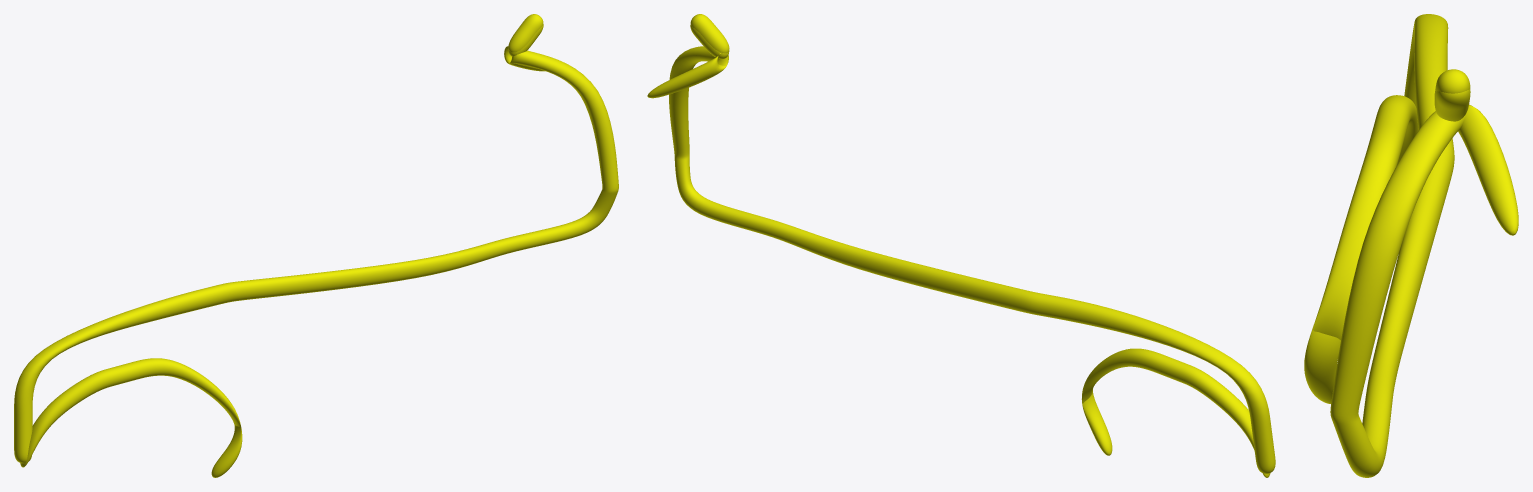
File: conducto deferente izq.fbx
3 views of the same model, side by side, from view 1: azimuth 30°, elevation 25°; view 2: azimuth 150°, elevation 25°; view 3: azimuth 270°, elevation 25° (orthographic). The views are drawn at different scales.
Visible parts, largest first — view 1: Cube_009; view 2: Cube_009; view 3: Cube_009.
Boxes of the visible parts, <box> form: Cube_009: <box>14,14,618,477</box>; Cube_009: <box>647,14,1275,477</box>; Cube_009: <box>1304,14,1518,477</box>.
Size of the model in its own units: 12.9 by 7.46 by 2.23.
